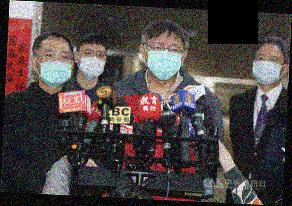with_mask: (145, 38, 184, 79), (37, 46, 74, 85), (254, 50, 284, 85), (78, 46, 107, 78)
